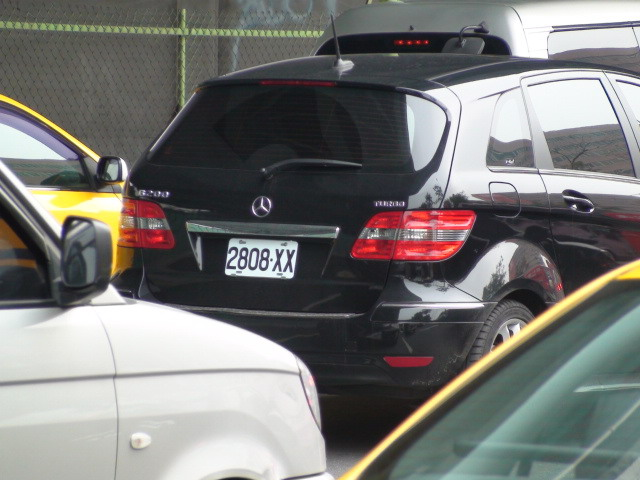plate: (221, 235, 304, 283)
